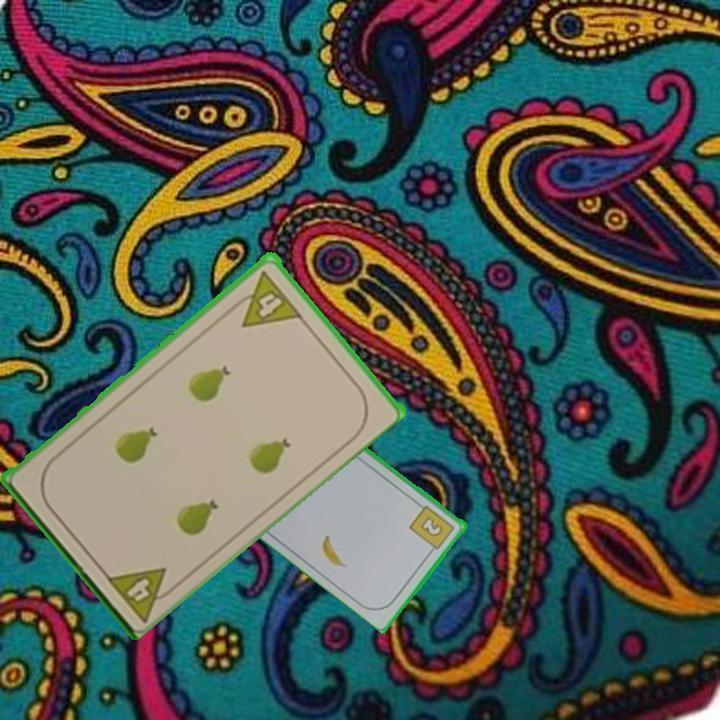2b: (406, 502, 458, 556)
4p: (101, 562, 183, 624), (226, 266, 304, 330)
